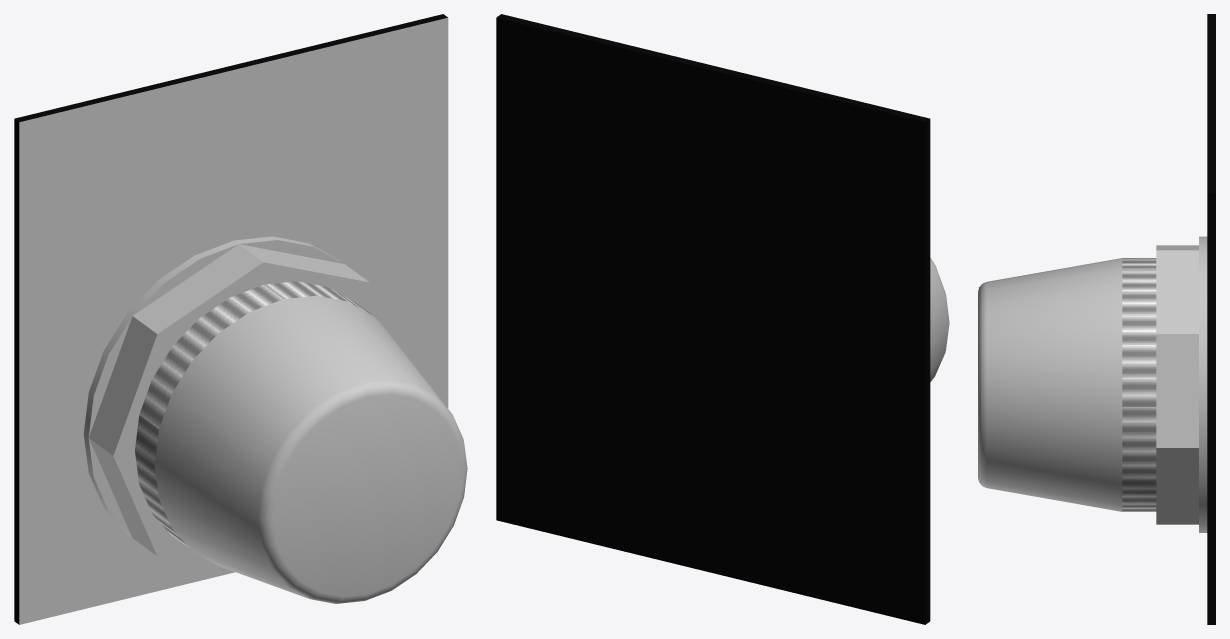
File: pilot_light.dae
3 views of the same model, side by side, from view 1: azimuth 30°, elevation 25°; view 2: azimuth 150°, elevation 25°; view 3: azimuth 270°, elevation 25° (orthographic). The views are drawn at different scales.
Visible parts, largest first — view 1: placard (×2), pilot (×3), housing_nut; view 2: placard, pilot; view 3: pilot (×3), housing_nut, placard.
Part boxes in pixels (x1=…): placard (×2): x1=14, y1=14, x2=448, y2=624; pilot (×3): x1=135, y1=281, x2=467, y2=603; housing_nut: x1=83, y1=236, x2=393, y2=569; placard: x1=496, y1=14, x2=930, y2=624; pilot: x1=930, y1=260, x2=948, y2=381; pilot (×3): x1=978, y1=258, x2=1156, y2=511; housing_nut: x1=1156, y1=236, x2=1207, y2=532; placard: x1=1207, y1=14, x2=1215, y2=624.
Size of the model in its own units: 1.97 by 1.1 by 2.2.
